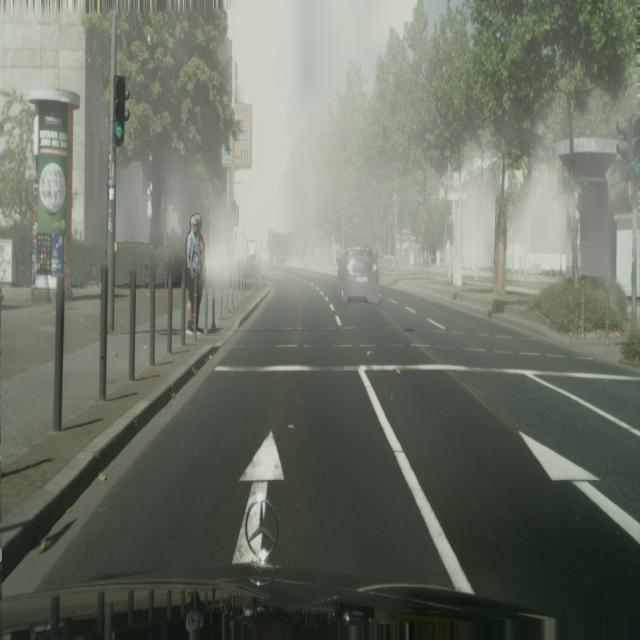person: (185, 214, 205, 336)
truck: (337, 248, 380, 302)
